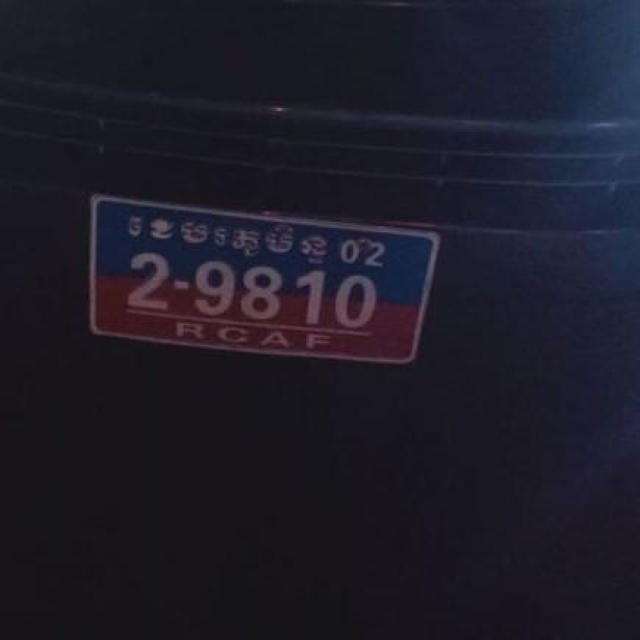RCAF: (125, 214, 327, 266)
